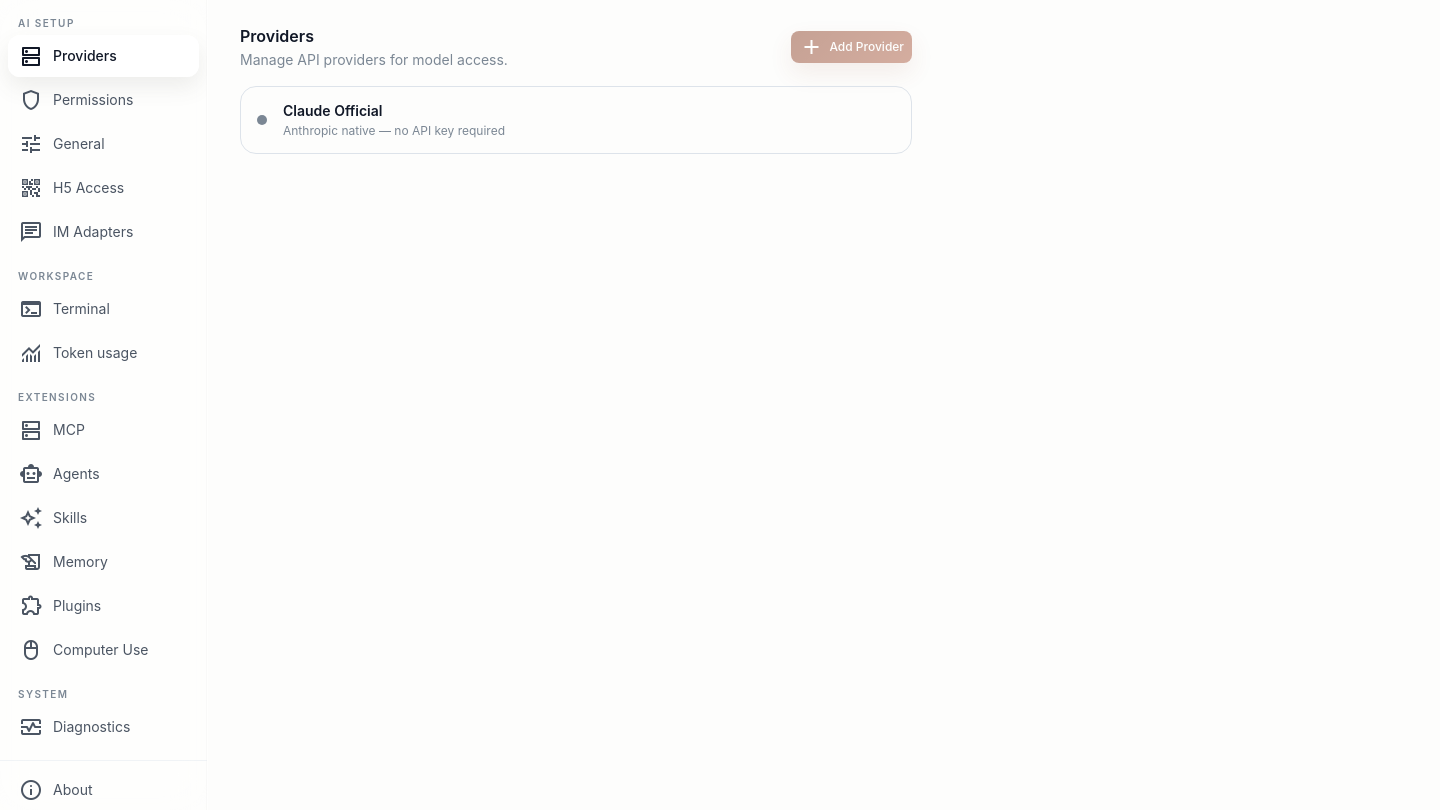
Test case: Settings > Skills tab › opens skill detail with metadata cards and parsed markdown body
The image size is (1440, 810).
Click the button "Skills": x=104, y=518 [8,497,199,539]
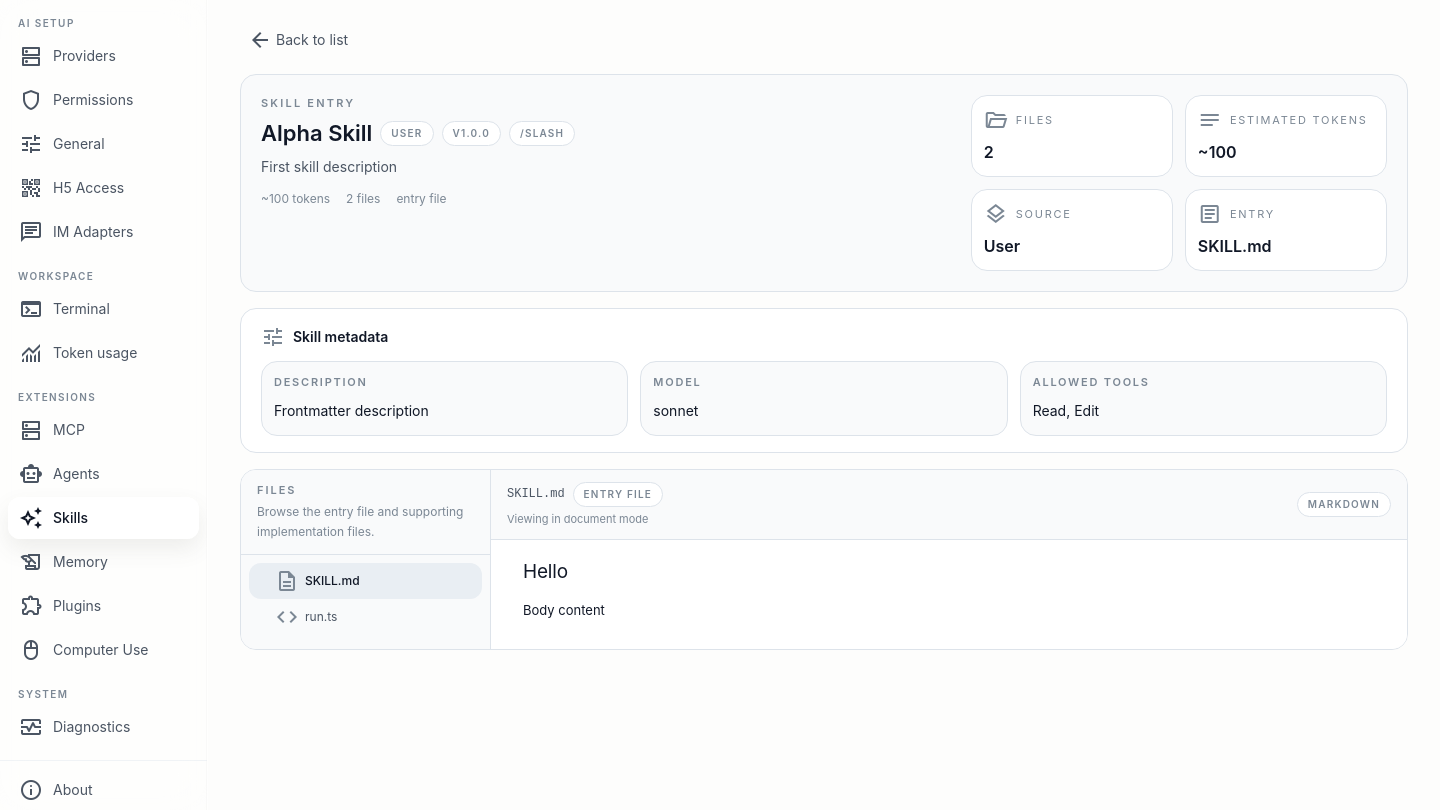
Expected: the heading "Skill metadata" is shown, [293,327,388,347]
Expected: the text "/slash" is shown, [509,121,575,146]
Expected: the text "Frontmatter description" is shown, [274,402,429,418]
